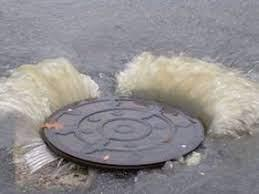drainage_overflow: (8, 55, 227, 180)
